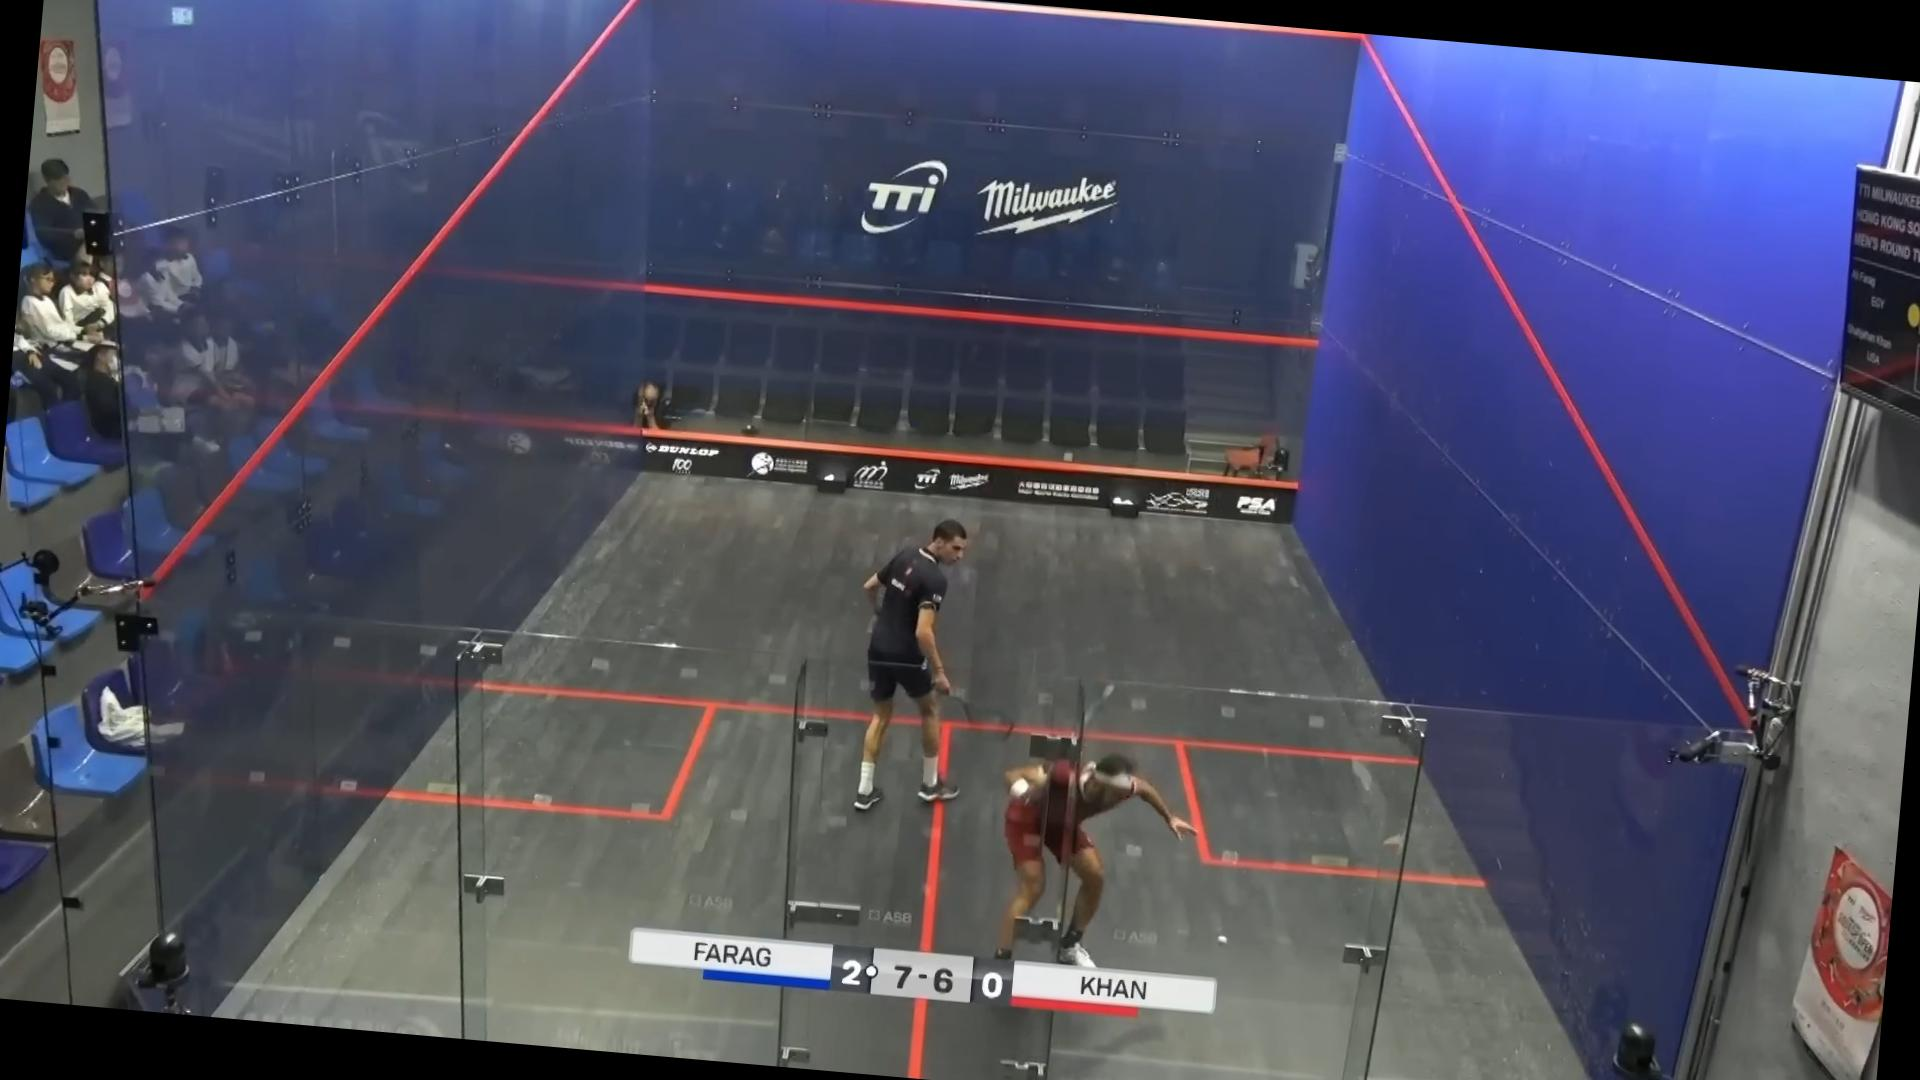Racket: (1047, 667, 1121, 786), (943, 687, 1029, 737)
